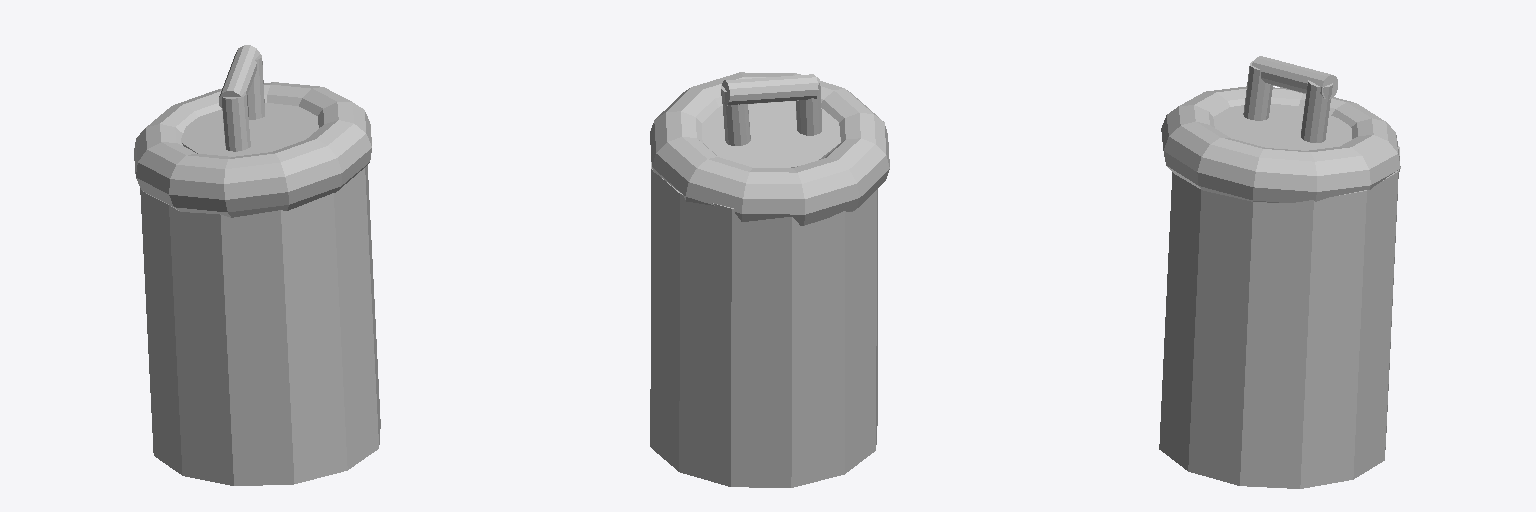
The model's file is trash.obj.
3 renders of one model, left to right at view 1: azimuth 30°, elevation 25°; view 2: azimuth 150°, elevation 25°; view 3: azimuth 270°, elevation 25°, orthographic.
Parts seen in each view (by area): view 1: group[number redacted], group[number redacted], group[number redacted], group[number redacted], group[number redacted], group[number redacted]; view 2: group[number redacted], group[number redacted], group[number redacted], group[number redacted], group[number redacted], group[number redacted]; view 3: group[number redacted], group[number redacted], group[number redacted], group[number redacted], group[number redacted], group[number redacted].
Boxes of the visible parts, x1=… form: group[number redacted]: x1=140, y1=165, x2=380, y2=485; group[number redacted]: x1=134, y1=82, x2=371, y2=217; group[number redacted]: x1=181, y1=103, x2=318, y2=156; group[number redacted]: x1=222, y1=92, x2=250, y2=151; group[number redacted]: x1=219, y1=45, x2=259, y2=109; group[number redacted]: x1=247, y1=54, x2=264, y2=119; group[number redacted]: x1=650, y1=162, x2=877, y2=487; group[number redacted]: x1=650, y1=72, x2=889, y2=225; group[number redacted]: x1=702, y1=101, x2=840, y2=167; group[number redacted]: x1=721, y1=74, x2=818, y2=105; group[number redacted]: x1=721, y1=85, x2=750, y2=145; group[number redacted]: x1=796, y1=77, x2=821, y2=135; group[number redacted]: x1=1159, y1=146, x2=1399, y2=488; group[number redacted]: x1=1161, y1=86, x2=1400, y2=202; group[number redacted]: x1=1213, y1=104, x2=1351, y2=150; group[number redacted]: x1=1252, y1=56, x2=1337, y2=99; group[number redacted]: x1=1301, y1=80, x2=1332, y2=142; group[number redacted]: x1=1243, y1=61, x2=1272, y2=120.
Size of the model in its own units: 0.1884 by 0.3203 by 0.1859.